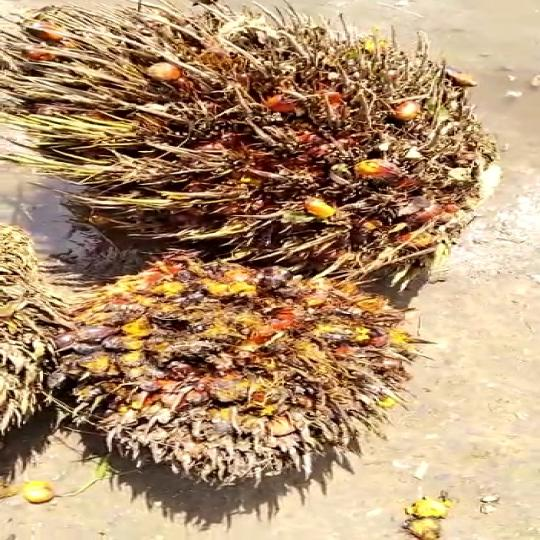terlalu masak: (0, 5, 496, 269), (19, 251, 423, 485)
